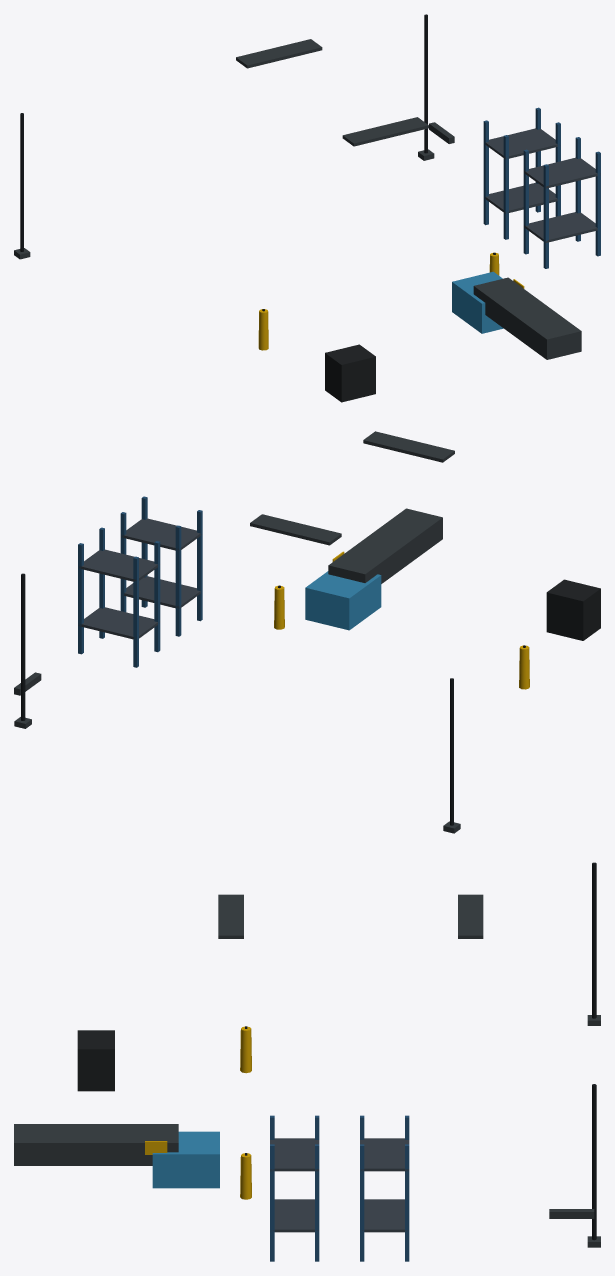
The picture shows the model from 3 angles, top to bottom: view 1: azimuth 30°, elevation 25°; view 2: azimuth 150°, elevation 25°; view 3: azimuth 270°, elevation 25°; orthographic projection. The views are drawn at different scales.
Parts seen in each view (by area): view 1: chip:body, chip:bin, chip:coolant-tank, buffer:2:shelf:1.35, buffer:2:shelf:0.45, buffer:1:shelf:1.35, worklight:2:frame, worklight:1:frame, buffer:1:shelf:0.45, buffer:1:post:-0.45:0.3, buffer:2:post:-0.45:0.3, buffer:2:post:0.45:0.3 (+4 smaller); view 2: chip:body, chip:coolant-tank, chip:bin, buffer:1:shelf:1.35, buffer:1:shelf:0.45, buffer:2:shelf:1.35, worklight:1:frame, worklight:2:frame, buffer:2:shelf:0.45, buffer:2:post:-0.45:-0.3, buffer:1:post:-0.45:0.3, cable:drop:2 (+4 smaller); view 3: chip:body, chip:coolant-tank, chip:bin, buffer:2:shelf:1.35, buffer:1:shelf:1.35, buffer:1:shelf:0.45, buffer:2:shelf:0.45, worklight:1:frame, worklight:2:frame, cable:drop:1, cable:drop:2, buffer:1:post:0.45:0.3 (+5 smaller).
Boxes of the visible parts, x1=… form: chip:body: x1=473, y1=277, x2=581, y2=359; chip:bin: x1=325, y1=344, x2=375, y2=402; chip:coolant-tank: x1=452, y1=271, x2=503, y2=333; buffer:2:shelf:1.35: x1=523, y1=157, x2=600, y2=188; buffer:2:shelf:0.45: x1=523, y1=212, x2=597, y2=242; buffer:1:shelf:1.35: x1=485, y1=128, x2=560, y2=158; worklight:2:frame: x1=236, y1=39, x2=322, y2=68; worklight:1:frame: x1=342, y1=117, x2=428, y2=146; buffer:1:shelf:0.45: x1=485, y1=183, x2=560, y2=213; buffer:1:post:-0.45:0.3: x1=503, y1=135, x2=508, y2=239; buffer:2:post:-0.45:0.3: x1=543, y1=164, x2=548, y2=268; buffer:2:post:0.45:0.3: x1=595, y1=151, x2=600, y2=256; chip:body: x1=328, y1=508, x2=442, y2=583; chip:coolant-tank: x1=305, y1=571, x2=381, y2=630; chip:bin: x1=546, y1=579, x2=600, y2=640; buffer:1:shelf:1.35: x1=79, y1=549, x2=160, y2=581; buffer:1:shelf:0.45: x1=78, y1=607, x2=159, y2=639; buffer:2:shelf:1.35: x1=120, y1=518, x2=201, y2=550; worklight:1:frame: x1=363, y1=431, x2=454, y2=462; worklight:2:frame: x1=250, y1=514, x2=341, y2=545; buffer:2:shelf:0.45: x1=124, y1=576, x2=200, y2=608; buffer:2:post:-0.45:-0.3: x1=175, y1=525, x2=181, y2=636; buffer:1:post:-0.45:0.3: x1=154, y1=541, x2=160, y2=652; cable:drop:2: x1=21, y1=573, x2=25, y2=720; chip:body: x1=14, y1=1124, x2=178, y2=1165; chip:coolant-tank: x1=152, y1=1131, x2=219, y2=1188; chip:bin: x1=77, y1=1030, x2=114, y2=1091; buffer:2:shelf:1.35: x1=270, y1=1138, x2=319, y2=1171; buffer:1:shelf:1.35: x1=360, y1=1138, x2=409, y2=1171; buffer:1:shelf:0.45: x1=362, y1=1199, x2=407, y2=1232; buffer:2:shelf:0.45: x1=270, y1=1199, x2=318, y2=1232; worklight:1:frame: x1=218, y1=894, x2=243, y2=938; worklight:2:frame: x1=458, y1=894, x2=483, y2=938; cable:drop:1: x1=592, y1=862, x2=596, y2=1018; cable:drop:2: x1=592, y1=1084, x2=596, y2=1240; buffer:1:post:0.45:0.3: x1=360, y1=1144, x2=364, y2=1261.
Bounding box in the file's own units: 7.62 × 3.23 × 7.84.
